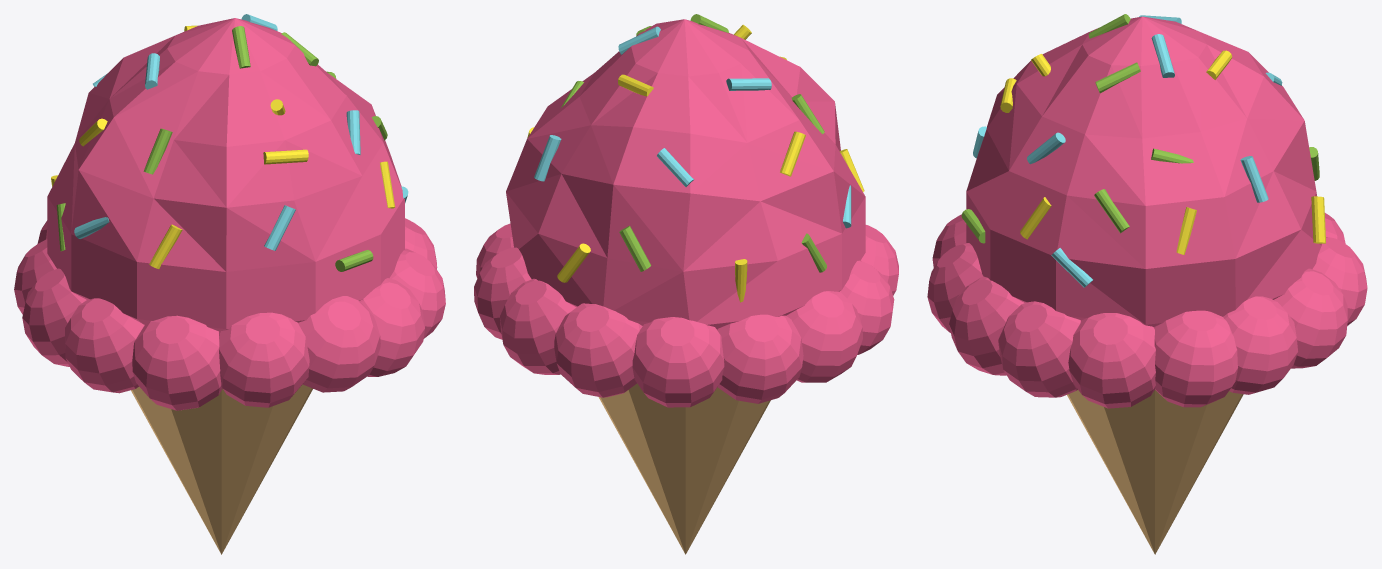
The model's file is ice.glb.
3 views of the same model, side by side, from view 1: azimuth 30°, elevation 25°; view 2: azimuth 150°, elevation 25°; view 3: azimuth 270°, elevation 25° (orthographic). The views are drawn at different scales.
Visible parts, largest first — view 1: Node; view 2: Node; view 3: Node.
Boxes of the visible parts, x1=… form: Node: x1=14, y1=14, x2=445, y2=554; Node: x1=474, y1=14, x2=898, y2=554; Node: x1=927, y1=14, x2=1367, y2=554.
Bounding box in the file's own units: 0.463 × 0.6397 × 0.4708.
